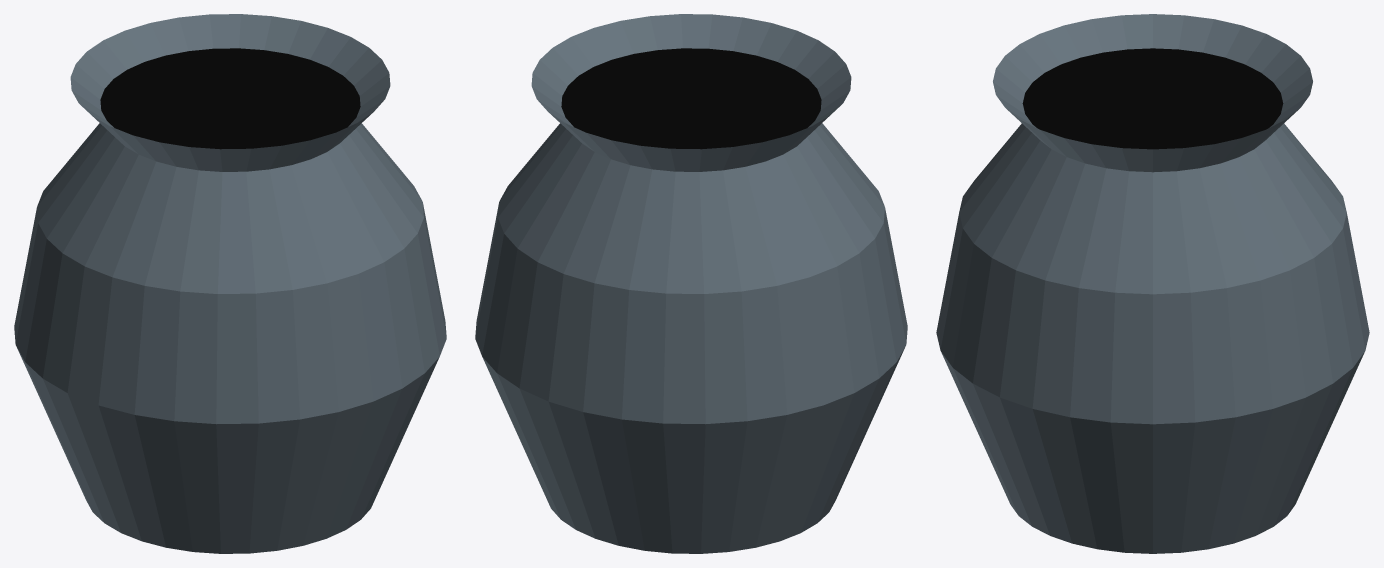
The model's file is Vase2.fbx.
3 views of the same model, side by side, from view 1: azimuth 30°, elevation 25°; view 2: azimuth 150°, elevation 25°; view 3: azimuth 270°, elevation 25° (orthographic).
Visible parts, largest first — view 1: Cylinder.001; view 2: Cylinder.001; view 3: Cylinder.001.
Boxes of the visible parts, x1=… form: Cylinder.001: x1=14, y1=14, x2=446, y2=553; Cylinder.001: x1=475, y1=14, x2=907, y2=553; Cylinder.001: x1=936, y1=14, x2=1369, y2=553.
Bounding box in the file's own units: 298 × 312 × 298.
